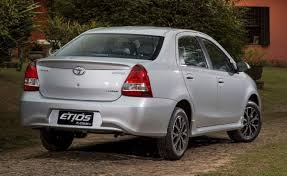car: (17, 23, 266, 160)
